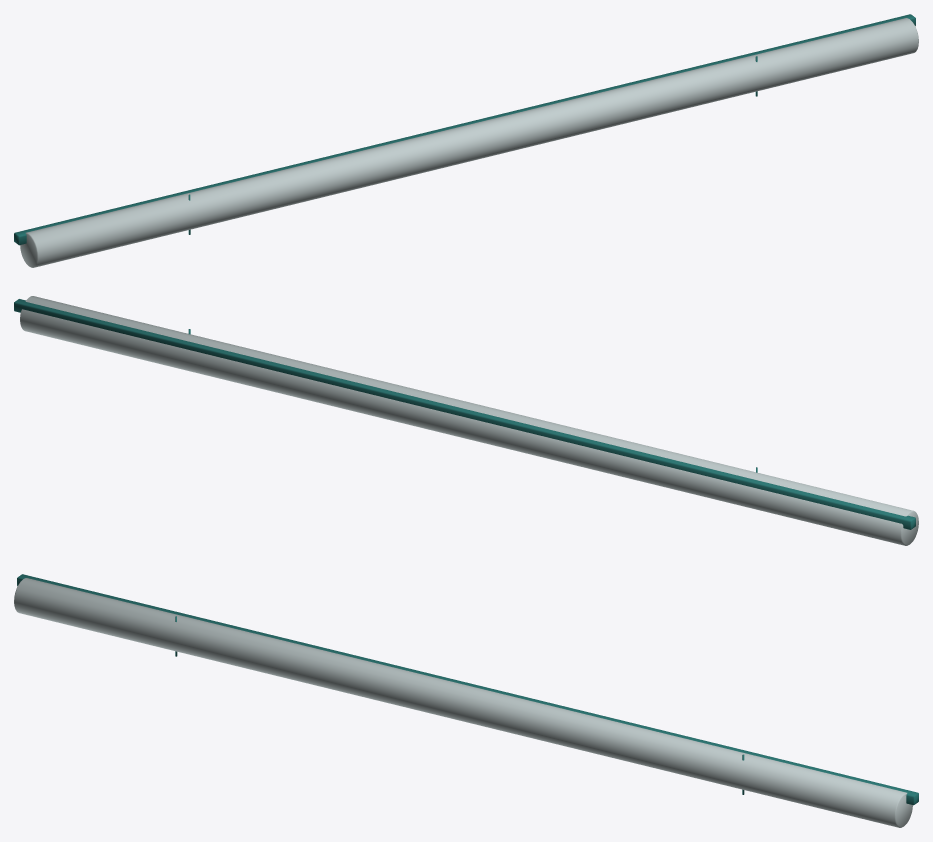
File: rem_cuon.glb
3 renders of one model, top to bottom at view 1: azimuth 30°, elevation 25°; view 2: azimuth 150°, elevation 25°; view 3: azimuth 330°, elevation 25°, orthographic.
Visible parts, largest first — view 1: rem_cuon; view 2: rem_cuon; view 3: rem_cuon.
Part boxes in pixels (<box>): rem_cuon: <box>14,14,918,267</box>; rem_cuon: <box>14,296,918,545</box>; rem_cuon: <box>14,574,918,827</box>.
Bounding box in the file's own units: 5.7 × 0.24 × 0.1988.
